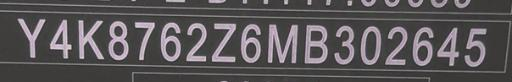letter: (264, 21, 298, 64), (16, 16, 46, 59), (76, 16, 106, 59), (209, 20, 239, 62), (302, 20, 330, 63), (460, 25, 488, 67), (48, 16, 74, 58), (182, 19, 208, 61), (238, 20, 264, 62), (410, 24, 436, 65), (435, 25, 461, 65), (132, 18, 156, 61), (333, 22, 357, 65), (106, 18, 130, 60), (384, 24, 408, 66), (160, 20, 182, 61), (360, 23, 382, 64)
